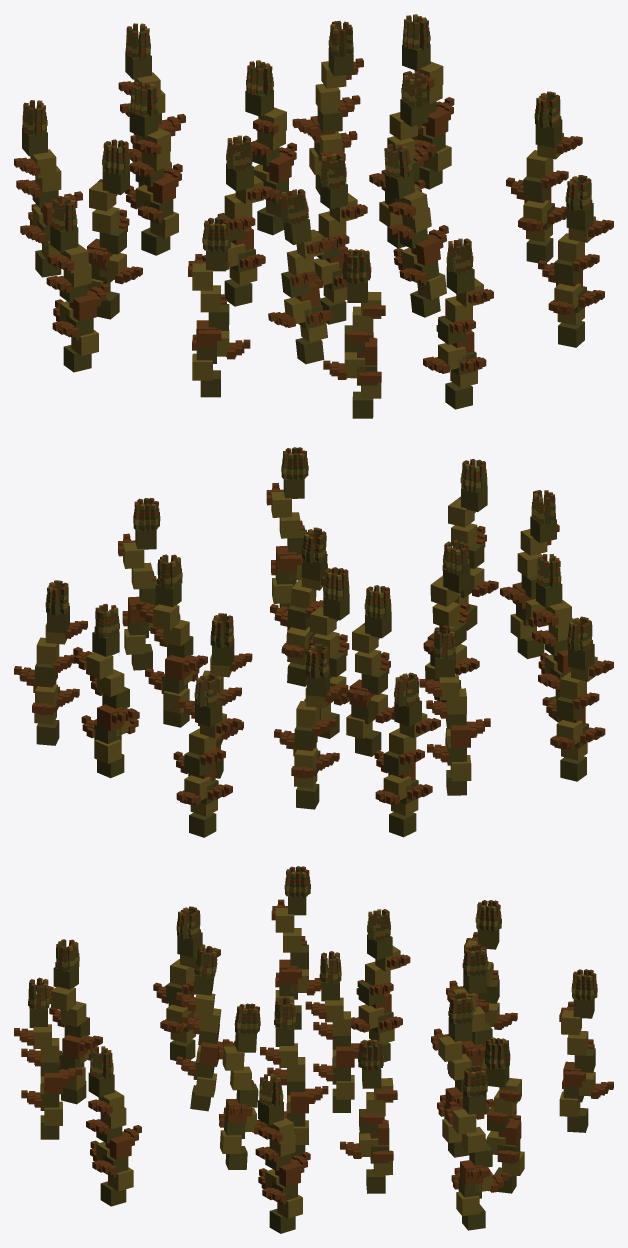
The model's file is dead_wheat.gltf.
3 views of the same model, one above another, from view 1: azimuth 30°, elevation 25°; view 2: azimuth 150°, elevation 25°; view 3: azimuth 270°, elevation 25° (orthographic). The views are drawn at different scales.
Parts seen in each view (by area): view 1: Cube.001, Cube.006, Cube.005, Cube.015, Cube.014, Cube.010, Cube.013, Cube.008, Cube.007, Cube.009, Cube.016, Cube.011 (+6 smaller); view 2: Cube.017, Cube.002, Cube.004, Cube.003, Cube.016, Cube.006, Cube.005, Cube.007, Cube.012, Cube.009, Cube.013, Cube.001 (+6 smaller); view 3: Cube.014, Cube.013, Cube.012, Cube.003, Cube.001, Cube.015, Cube.007, Cube.009, Cube.002, Cube.010, Cube.016, Cube.017 (+6 smaller).
Part boxes in pixels (left/top/right/bottom): Cube.001: left=384, top=143, right=448, bottom=317; Cube.006: left=46, top=195, right=109, bottom=372; Cube.005: left=124, top=80, right=182, bottom=255; Cube.015: left=423, top=238, right=493, bottom=409; Cube.014: left=538, top=175, right=613, bottom=347; Cube.010: left=268, top=189, right=332, bottom=364; Cube.013: left=506, top=91, right=582, bottom=263; Cube.008: left=188, top=217, right=250, bottom=397; Cube.007: left=87, top=139, right=142, bottom=319; Cube.009: left=323, top=249, right=385, bottom=418; Cube.016: left=202, top=135, right=273, bottom=306; Cube.011: left=245, top=60, right=296, bottom=235; Cube.017: left=73, top=604, right=139, bottom=778; Cube.002: left=136, top=554, right=207, bottom=727; Cube.004: left=374, top=672, right=440, bottom=837; Cube.003: left=173, top=673, right=241, bottom=837; Cube.016: left=346, top=585, right=394, bottom=756; Cube.006: left=542, top=616, right=613, bottom=781; Cube.005: left=274, top=643, right=348, bottom=809; Cube.007: left=419, top=625, right=490, bottom=795; Cube.012: left=14, top=580, right=87, bottom=745; Cube.009: left=500, top=490, right=560, bottom=658; Cube.013: left=118, top=498, right=180, bottom=670; Cube.001: left=270, top=527, right=338, bottom=686; Cube.014: left=86, top=1046, right=141, bottom=1206; Cube.013: left=255, top=1073, right=310, bottom=1233; Cube.012: left=445, top=1065, right=508, bottom=1230; Cube.003: left=559, top=969, right=613, bottom=1132; Cube.001: left=217, top=1003, right=268, bottom=1169; Cube.015: left=14, top=977, right=82, bottom=1139; Cube.007: left=351, top=909, right=410, bottom=1062; Cube.009: left=36, top=939, right=102, bottom=1104; Cube.002: left=340, top=1039, right=397, bottom=1193; Cube.010: left=176, top=946, right=234, bottom=1111; Cube.016: left=305, top=951, right=372, bottom=1112; Cube.017: left=484, top=1037, right=524, bottom=1193.
Bounding box in the file's own units: 1.48 × 0.4976 × 1.62.
